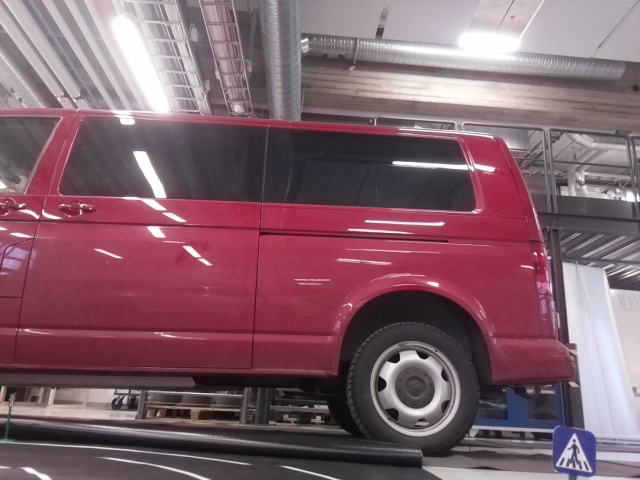Crosswalk: (552, 424, 596, 476)
